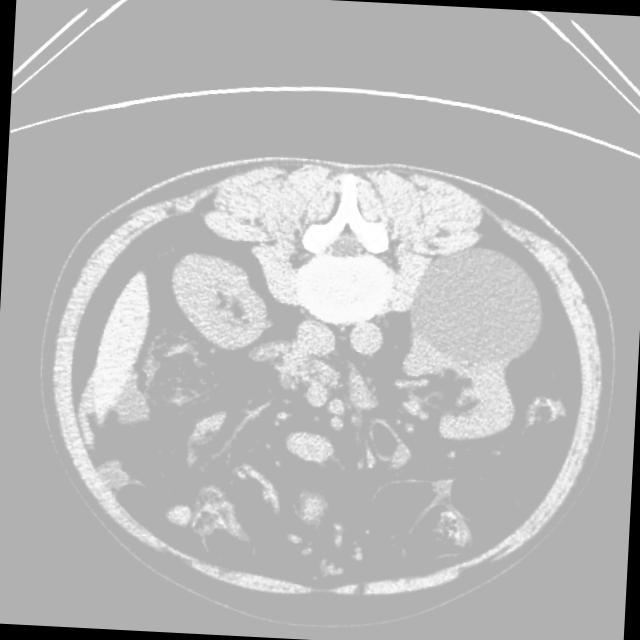cysts: (36, 148, 612, 615)
